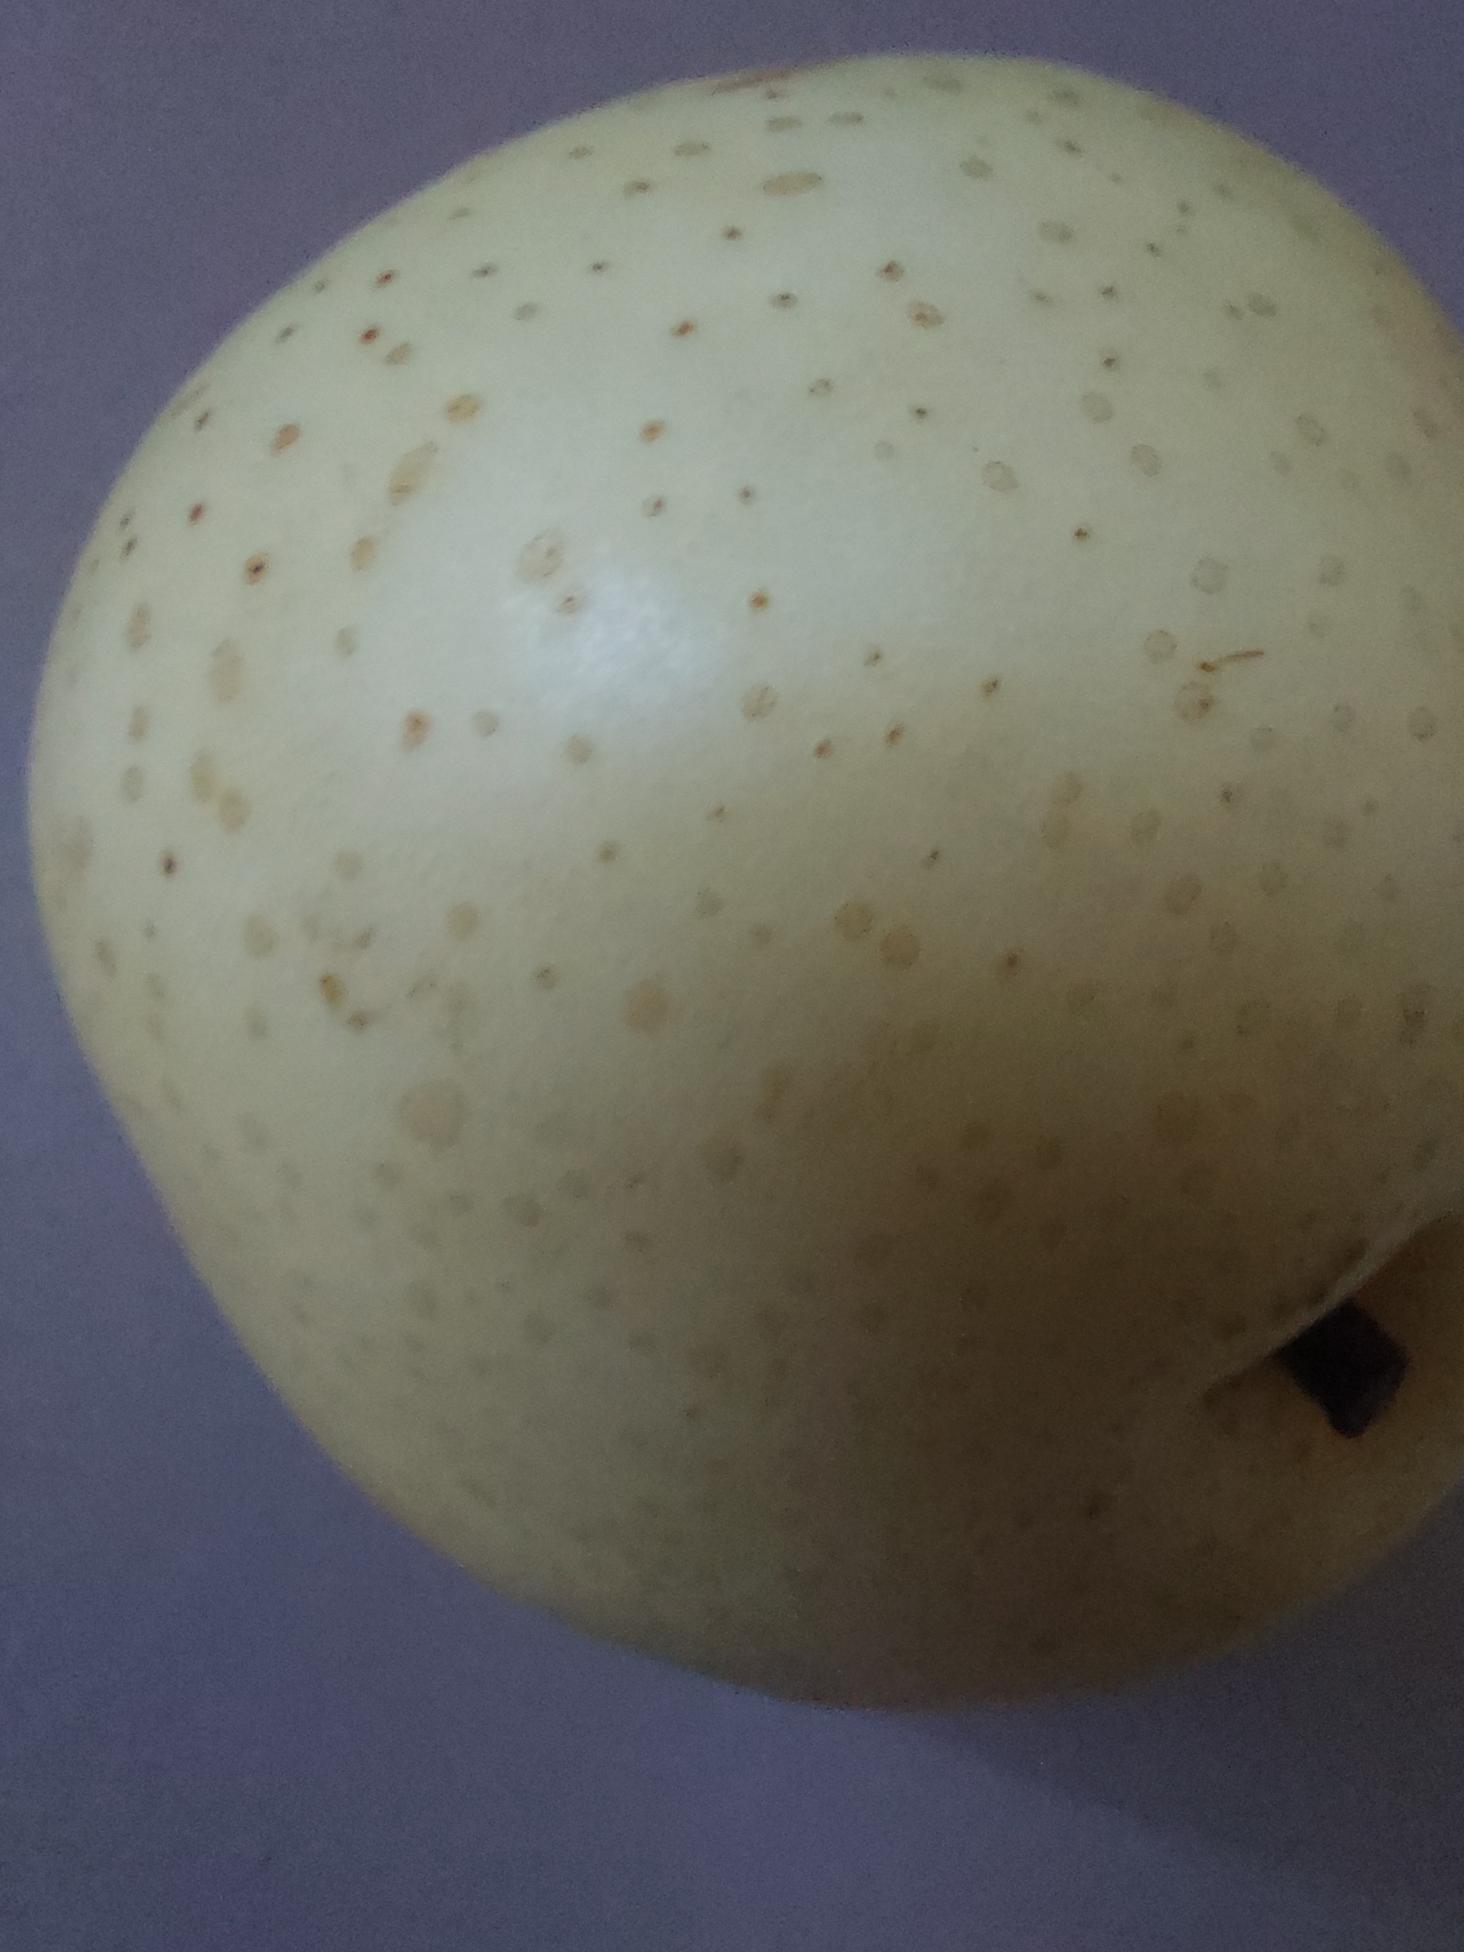Good Pear: (0, 22, 1464, 1760)
